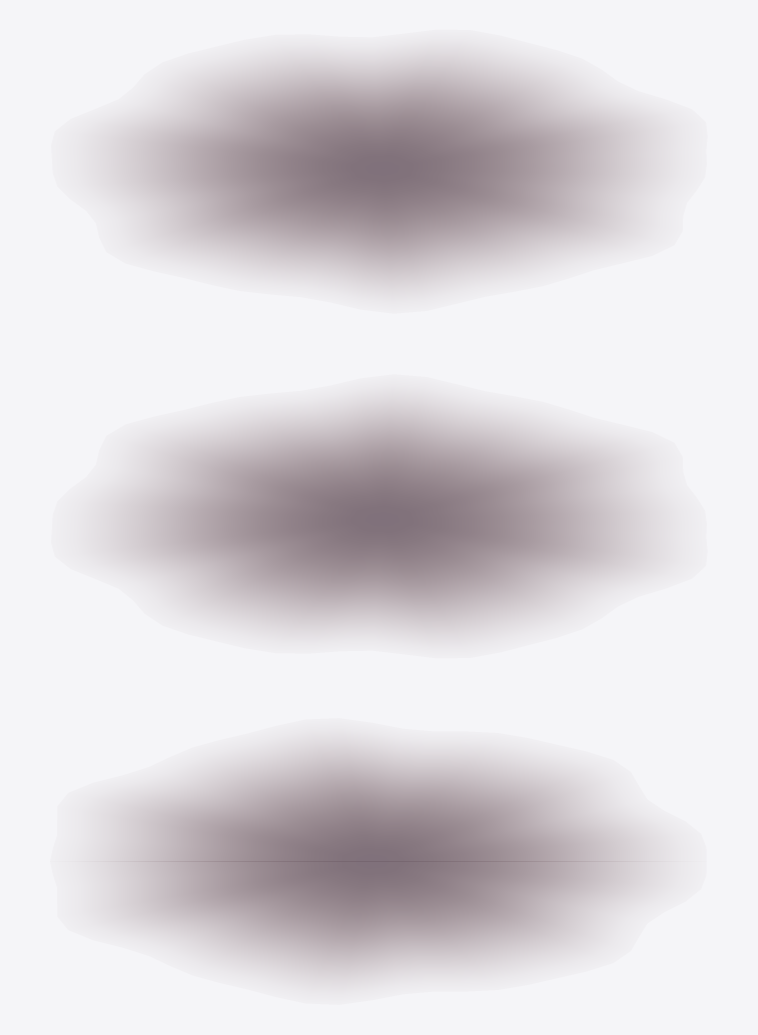
The model's file is landing-scorch.glb.
3 renders of one model, top to bottom at view 1: azimuth 30°, elevation 25°; view 2: azimuth 150°, elevation 25°; view 3: azimuth 270°, elevation 25°, orthographic.
Visible parts, largest first — view 1: scorch_patch; view 2: scorch_patch; view 3: scorch_patch.
Boxes of the visible parts, x1=… form: scorch_patch: x1=108, y1=53, x2=651, y2=288; scorch_patch: x1=108, y1=399, x2=651, y2=634; scorch_patch: x1=92, y1=743, x2=662, y2=979.
Size of the model in its own units: 15.5 by 0 by 15.
